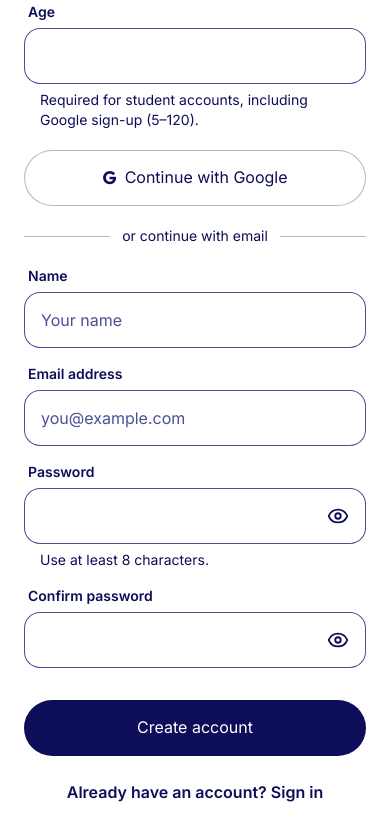
Test: phone sign-up screen › announces all validation messages for a student and focuses the age field first
The width and height of the screenshot is (390, 831).
(page scrolled)
Click the button "Create account".
click(195, 728)  # box [24, 700, 366, 756]
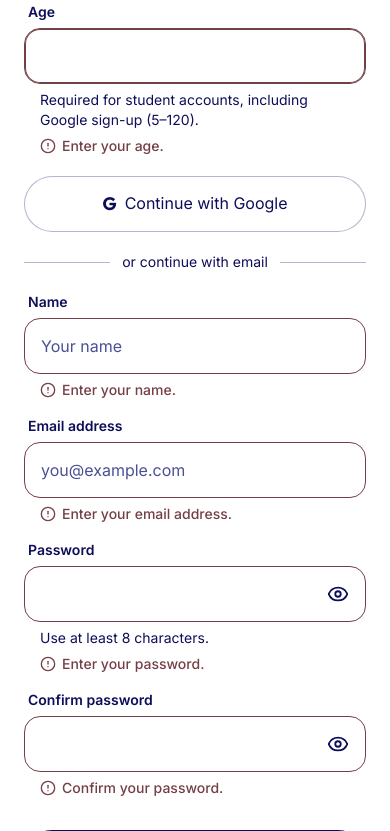
Expected: the text "Enter your age." is shown, [40, 137, 164, 154]
Expected: the text "Enter your name." is shown, [40, 381, 176, 398]
Expected: the text "Enter your email address." is shown, [40, 505, 232, 522]
